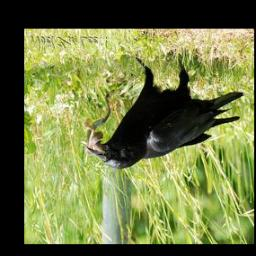Crow: (84, 56, 242, 170)
